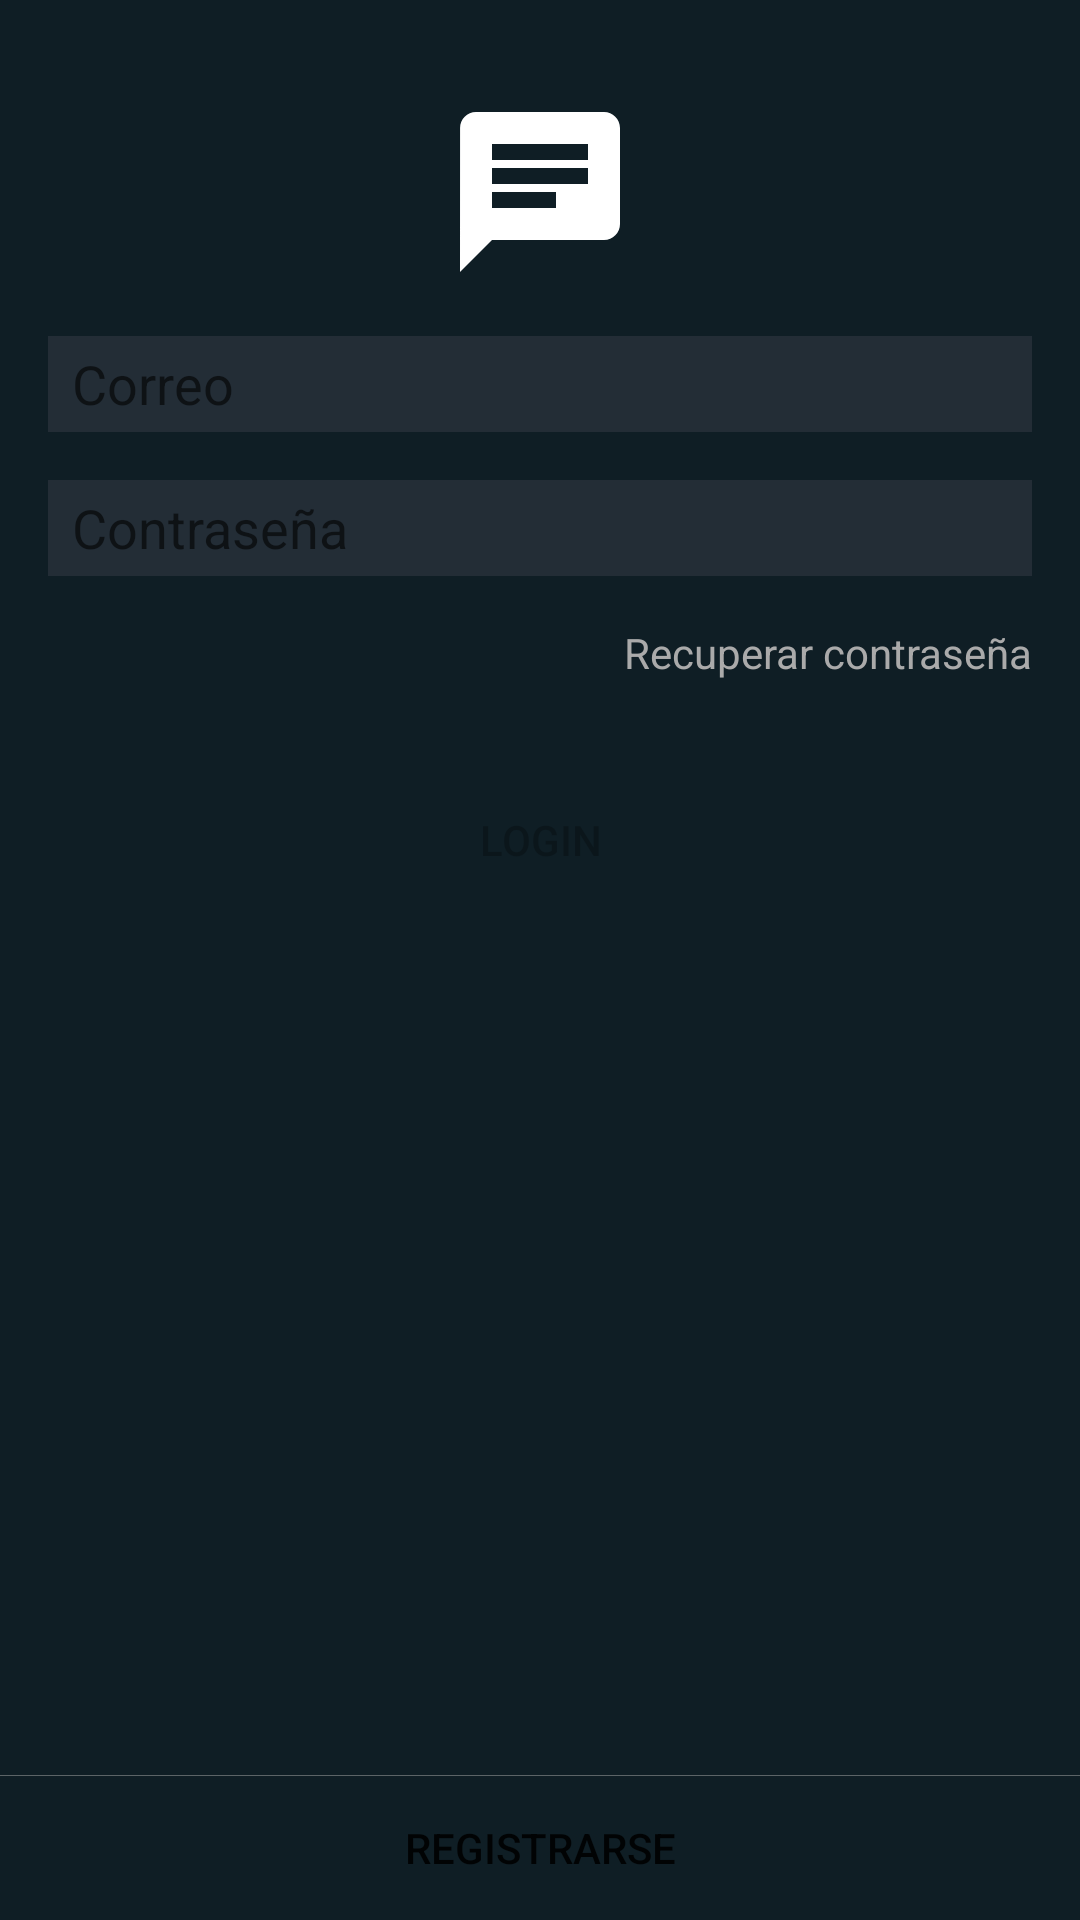

Icons on this 1080px×1920px Android screen, each with the point to tap as [x,y]:
chat blanco: [540,192]
